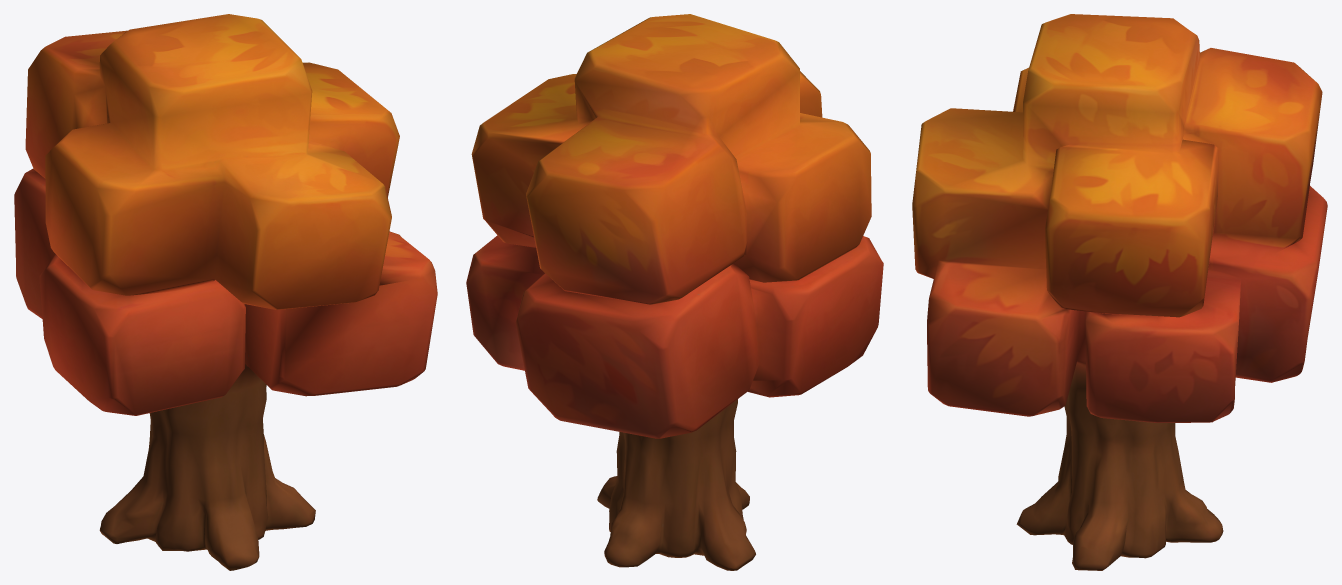
Rendered from tripo_raw.glb.
3 renders of one model, left to right at view 1: azimuth 30°, elevation 25°; view 2: azimuth 150°, elevation 25°; view 3: azimuth 270°, elevation 25°, orthographic.
Visible parts, largest first — view 1: tripo_node_22233a91-d30a-488e-9962-3e92ead279d1; view 2: tripo_node_22233a91-d30a-488e-9962-3e92ead279d1; view 3: tripo_node_22233a91-d30a-488e-9962-3e92ead279d1.
Boxes of the visible parts, x1,y1,x2,y2 form: tripo_node_22233a91-d30a-488e-9962-3e92ead279d1: (14,14,437,570); tripo_node_22233a91-d30a-488e-9962-3e92ead279d1: (466,14,883,570); tripo_node_22233a91-d30a-488e-9962-3e92ead279d1: (912,14,1327,570).
Size of the model in its own units: 0.6967 by 1 by 0.7789.
Materials: 1 (1 with a texture image).
